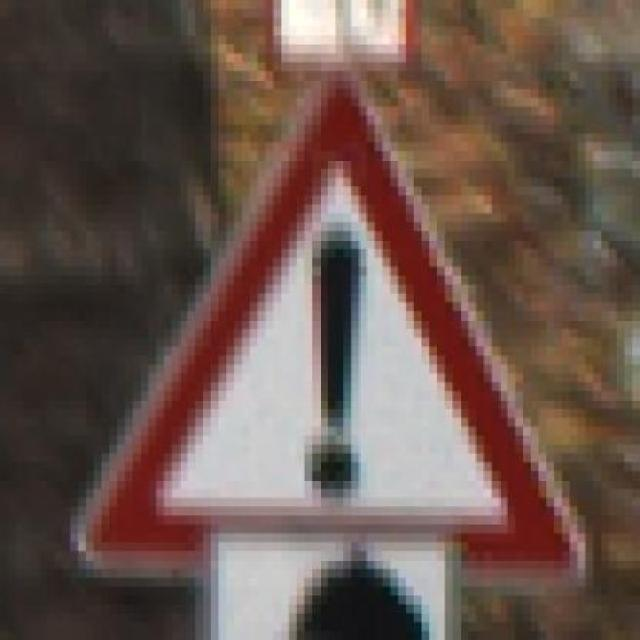Attention Please-: (54, 80, 608, 595)
